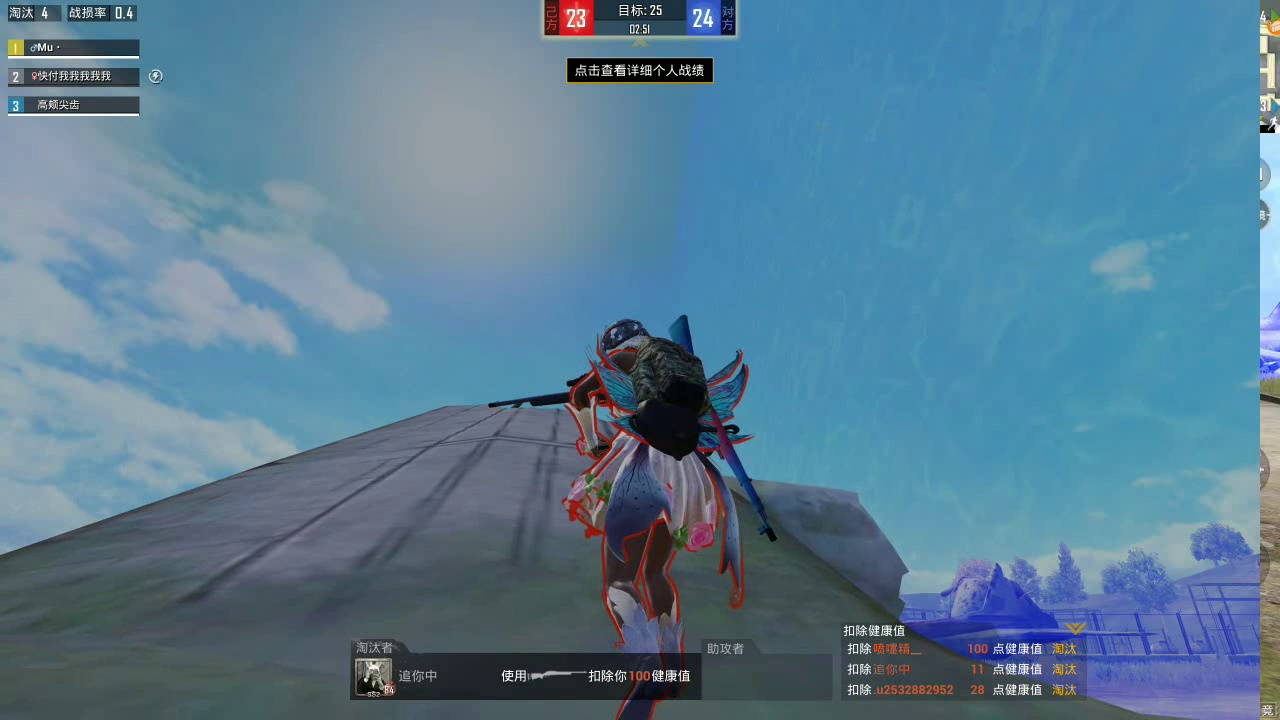enemy: (569, 317, 742, 710)
